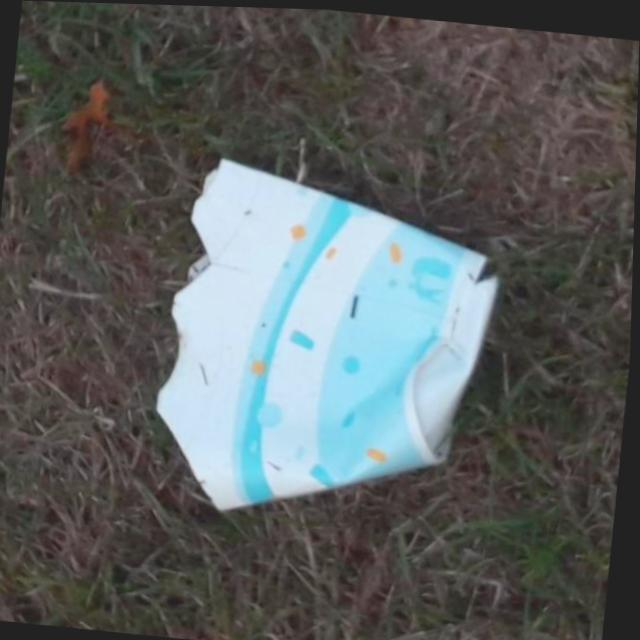Paper: (146, 146, 511, 538)
